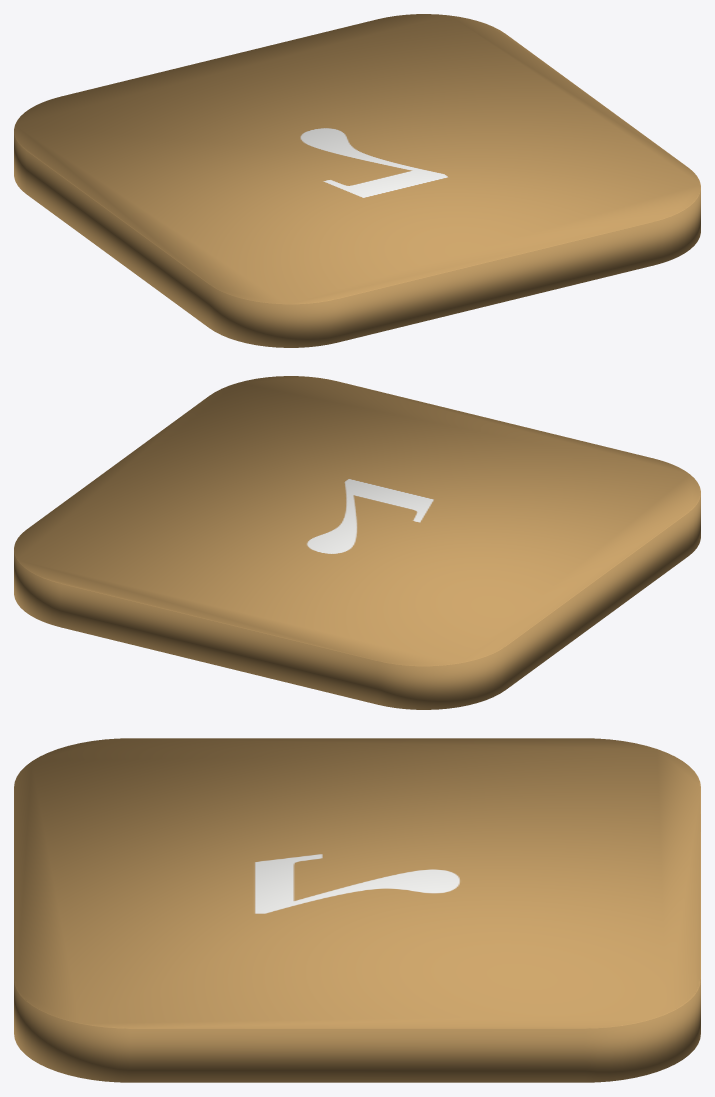
3 renders of one model, top to bottom at view 1: azimuth 30°, elevation 25°; view 2: azimuth 150°, elevation 25°; view 3: azimuth 270°, elevation 25°, orthographic. The views are drawn at different scales.
Parts seen in each view (by area): view 1: sq_7; view 2: sq_7; view 3: sq_7.
Part boxes in pixels (x1=…): sq_7: x1=14, y1=14, x2=700, y2=347; sq_7: x1=14, y1=376, x2=700, y2=709; sq_7: x1=14, y1=738, x2=700, y2=1082.
Bounding box in the file's own units: 0.0276 × 0.0024 × 0.0276.
Materials: 2 (1 with a texture image).
